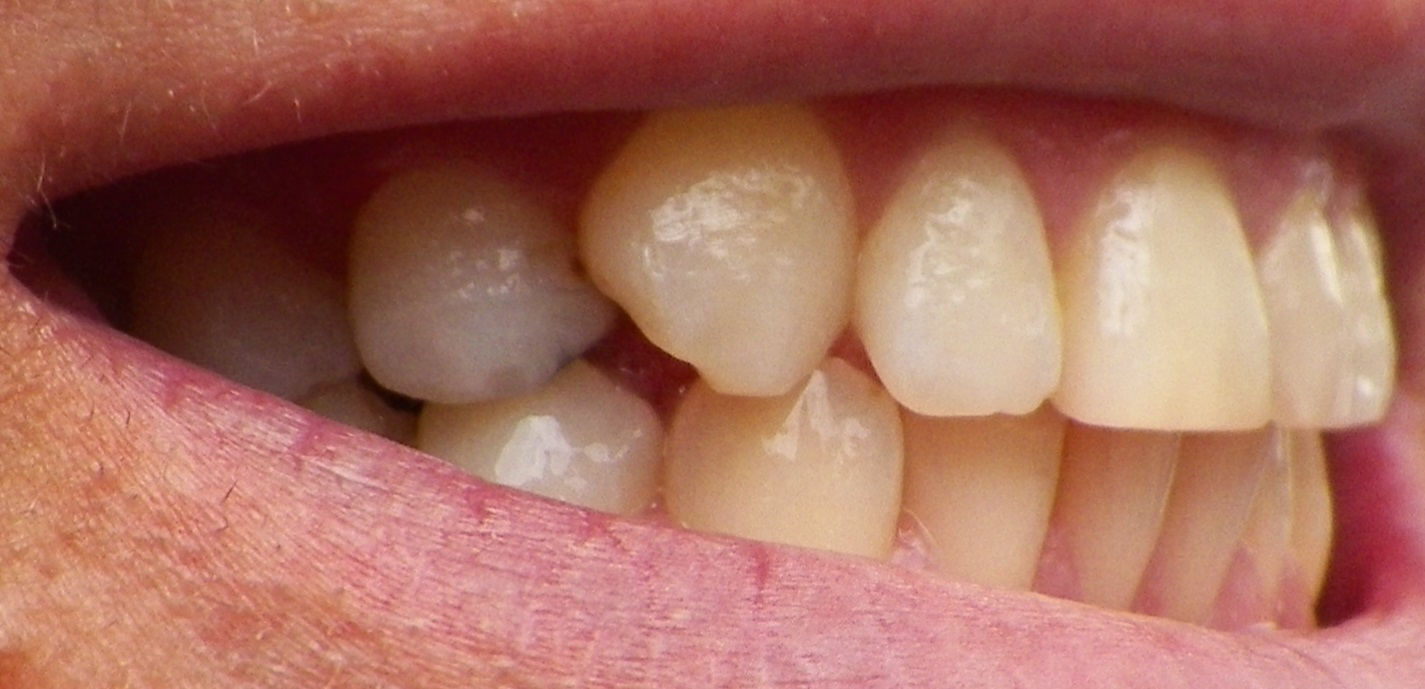boca: (145, 144, 1392, 618)
